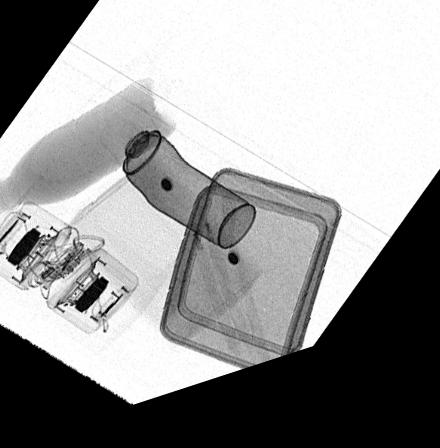Sprayer: (99, 111, 255, 263)
